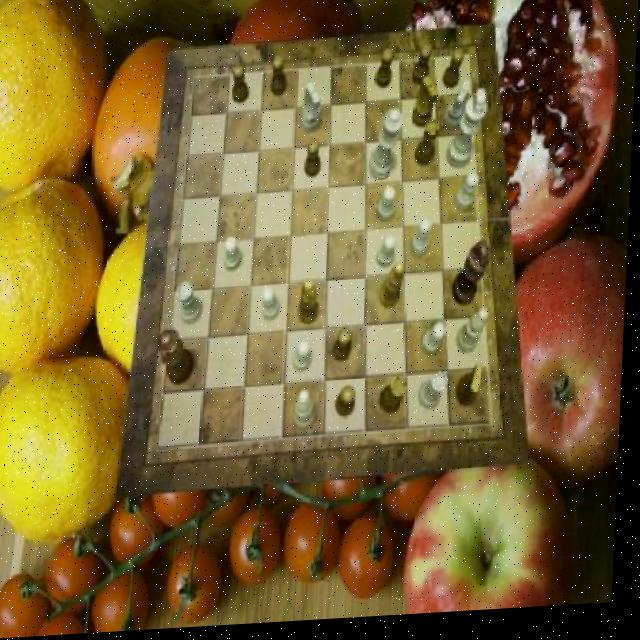bishop: (381, 267, 407, 313), (300, 283, 322, 329)
black-bishop: (454, 246, 492, 313)
black-king: (413, 81, 440, 134), (459, 370, 488, 413)
black-knight: (443, 55, 465, 94), (414, 50, 433, 90), (231, 68, 250, 107), (376, 54, 394, 95), (306, 141, 324, 181), (335, 332, 355, 367), (270, 59, 287, 100), (339, 390, 360, 422)
black-pawn: (158, 329, 197, 388)
black-queen: (416, 125, 441, 172), (382, 382, 410, 421)
black-rook: (460, 315, 491, 359), (296, 393, 319, 435)
white-bishop: (448, 94, 488, 174)
white-king: (444, 86, 470, 136), (302, 85, 323, 137)
white-knight: (456, 179, 480, 218), (413, 223, 435, 261), (424, 328, 449, 360), (263, 290, 282, 325), (378, 241, 398, 274), (379, 190, 397, 226), (226, 239, 244, 274), (295, 343, 314, 376)
white-pawn: (370, 113, 405, 185)
white-queen: (422, 377, 452, 416), (178, 284, 203, 327)
